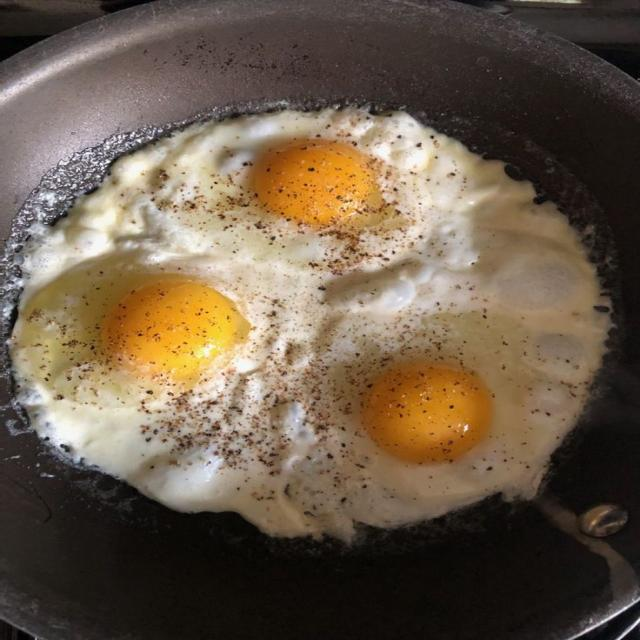fryed egg: (10, 109, 609, 539)
